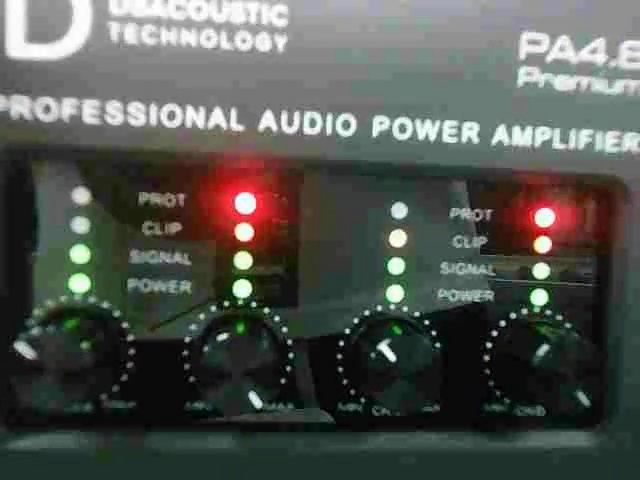A_CLIP_H: (135, 212, 262, 243), (385, 226, 498, 255), (450, 226, 554, 254)
A_CLIP_L: (66, 212, 191, 244)
A_PROT_H: (135, 184, 264, 213), (446, 197, 556, 229)
A_PROT_L: (71, 182, 190, 211), (388, 196, 494, 226)
A_PWR_H: (63, 272, 194, 302), (123, 274, 259, 301), (384, 282, 499, 312), (436, 284, 552, 311)
A_area: (62, 178, 270, 303), (382, 191, 556, 314)
